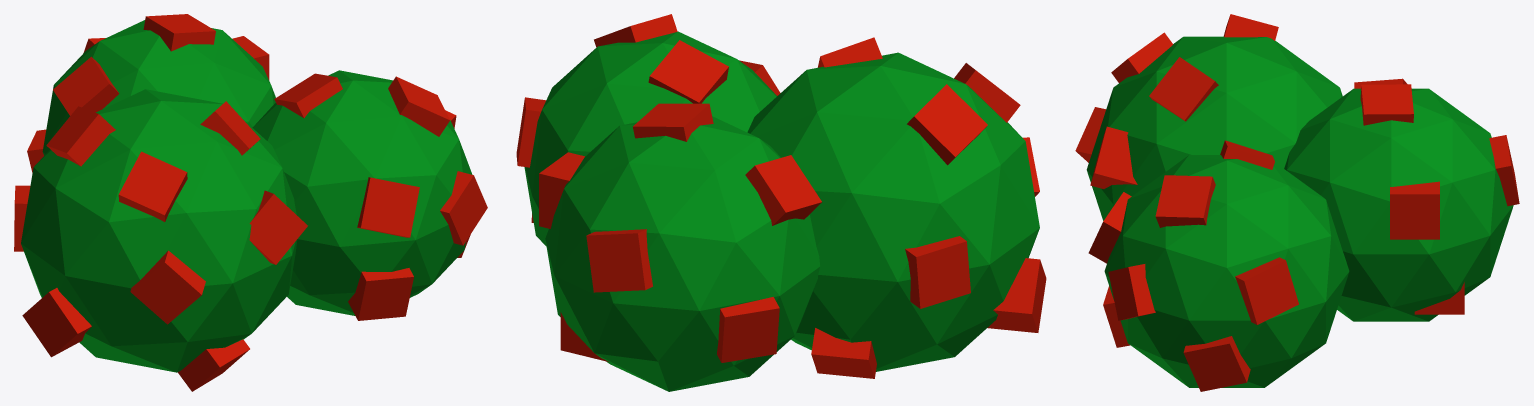
The model's file is Viminalis.glb.
3 views of the same model, side by side, from view 1: azimuth 30°, elevation 25°; view 2: azimuth 150°, elevation 25°; view 3: azimuth 270°, elevation 25° (orthographic). The views are drawn at different scales.
Visible parts, largest first — view 1: 棱角球.002, 立方体.019; view 2: 棱角球.002, 立方体.019; view 3: 棱角球.002, 立方体.019.
Boxes of the visible parts, x1,y1,x2,y2 form: 棱角球.002: (21, 20, 472, 372); 立方体.019: (14, 14, 487, 391); 棱角球.002: (524, 31, 1039, 391); 立方体.019: (516, 14, 1046, 378); 棱角球.002: (1086, 36, 1513, 387); 立方体.019: (1075, 14, 1519, 391).
Size of the model in its own units: 10.44 by 5.89 by 9.33.
